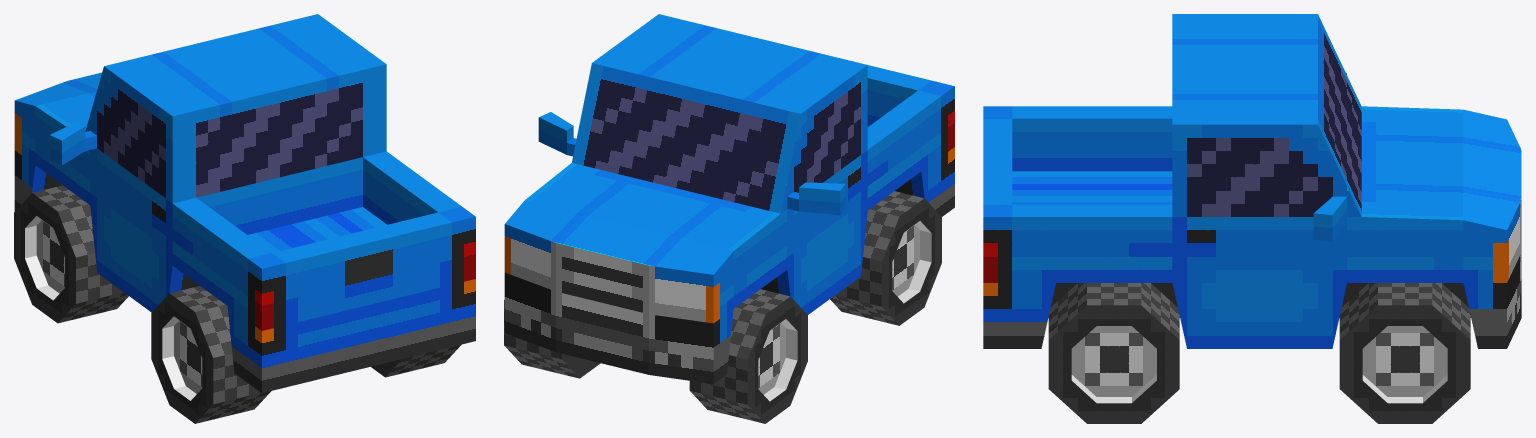
The model's file is testTruck.gltf.
3 views of the same model, side by side, from view 1: azimuth 30°, elevation 25°; view 2: azimuth 150°, elevation 25°; view 3: azimuth 270°, elevation 25° (orthographic). The views are drawn at different scales.
Visible parts, largest first — view 1: frame, wheelBackLeft, wheelFrontLeft, mirrorLeft, wheelBackRight; view 2: frame, wheelFrontLeft, wheelBackLeft, wheelFrontRight, mirrorLeft, mirrorRight; view 3: frame, wheelFrontRight, wheelBackRight, mirrorRight.
Boxes of the visible parts, <box> form: frame: <box>14,14,475,392</box>; wheelBackLeft: <box>151,286,271,423</box>; wheelFrontLeft: <box>14,185,128,323</box>; mirrorLeft: <box>49,121,96,165</box>; wheelBackRight: <box>371,344,461,377</box>; frame: <box>504,14,954,383</box>; wheelFrontLeft: <box>689,289,807,423</box>; wheelBackLeft: <box>830,191,941,325</box>; wheelFrontRight: <box>504,299,600,378</box>; mirrorLeft: <box>787,182,845,215</box>; mirrorRight: <box>538,112,576,156</box>; frame: <box>983,14,1521,348</box>; wheelFrontRight: <box>1339,283,1470,423</box>; wheelBackRight: <box>1048,283,1179,423</box>; mirrorRight: <box>1313,196,1346,241</box>.
Bounding box in the file's own units: 1.63 × 1.37 × 2.31.
1 material, 1 textured.
